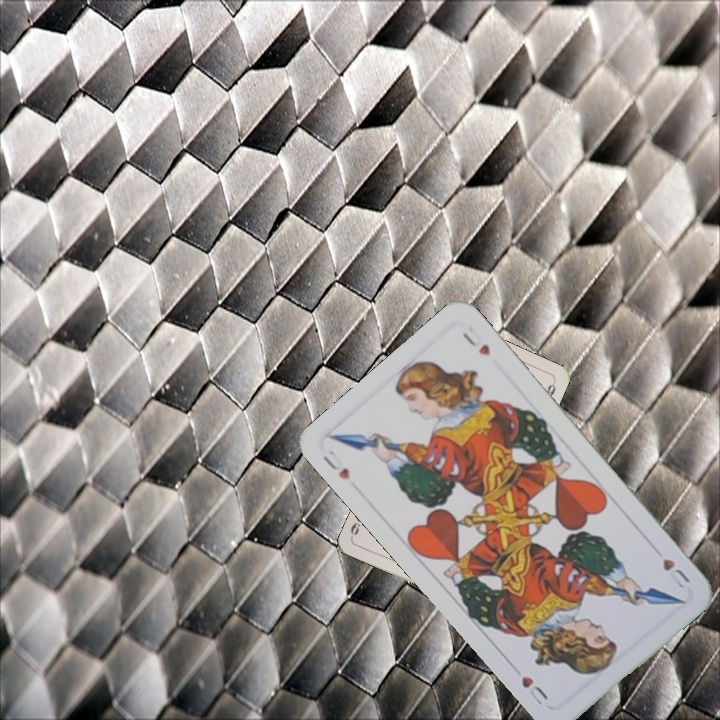HU: (658, 554, 693, 592), (319, 451, 353, 483)
